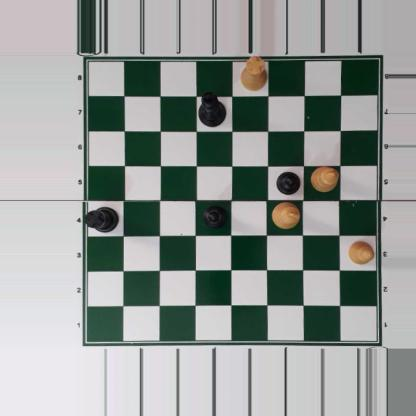black-king: (198, 92, 226, 128)
black-pawn: (276, 170, 300, 195), (203, 204, 226, 228)
black-rook: (85, 206, 120, 233)
white-bishop: (310, 165, 340, 193)
white-king: (272, 200, 301, 230)
white-pawn: (346, 240, 374, 266)
white-rook: (240, 55, 268, 92)
